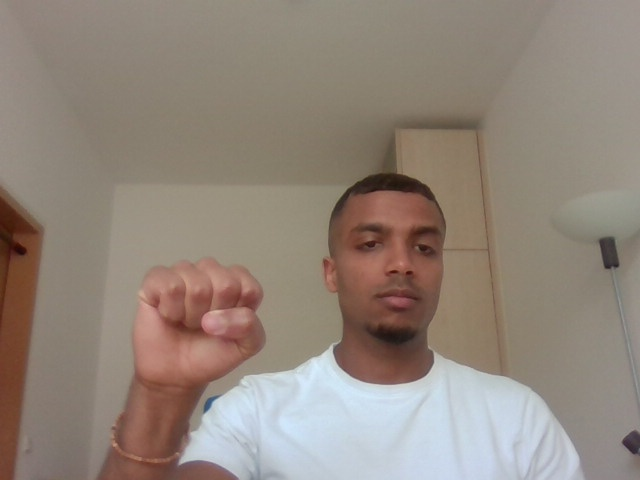maybe: (121, 241, 277, 405)
